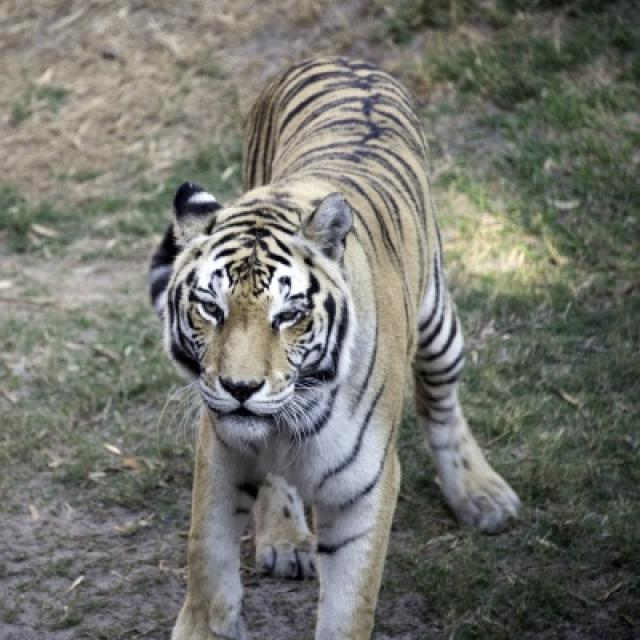Tiger: (159, 55, 525, 638)
